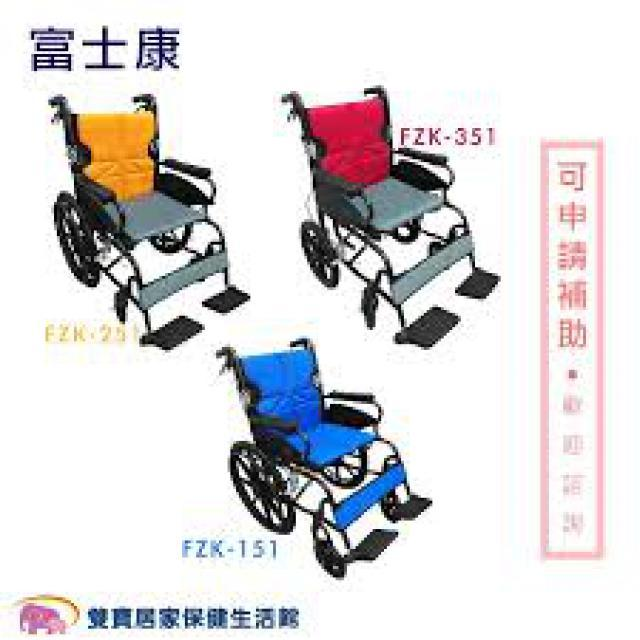wheelchair: (207, 332, 463, 578), (273, 82, 495, 348), (17, 91, 250, 344)
